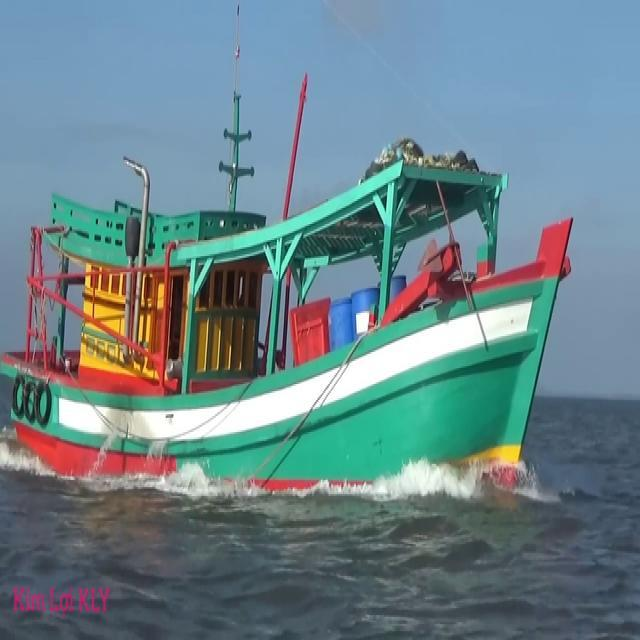Ship: (16, 145, 573, 508)
